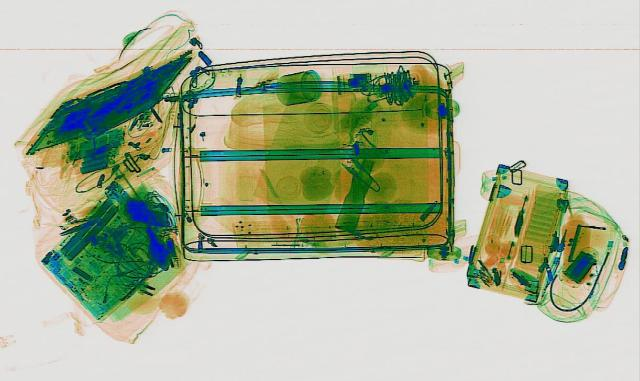Scissors: (333, 155, 389, 192)
